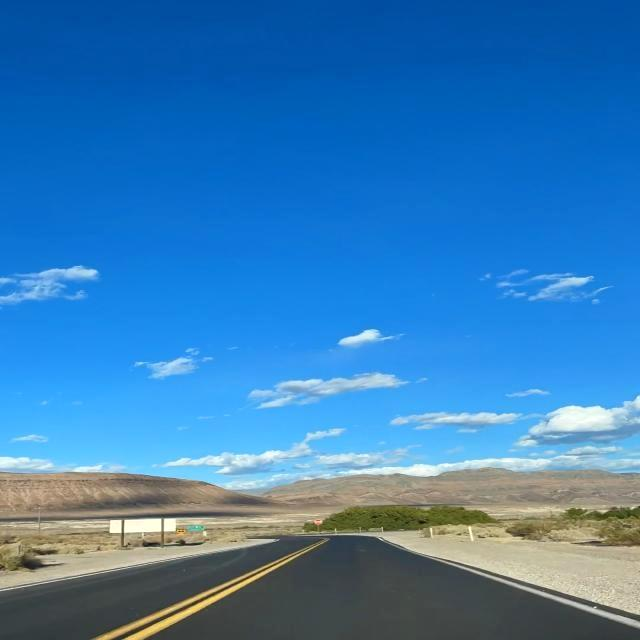lane: (92, 539, 328, 639), (430, 557, 640, 629)
road: (146, 536, 639, 639), (0, 537, 319, 639)
